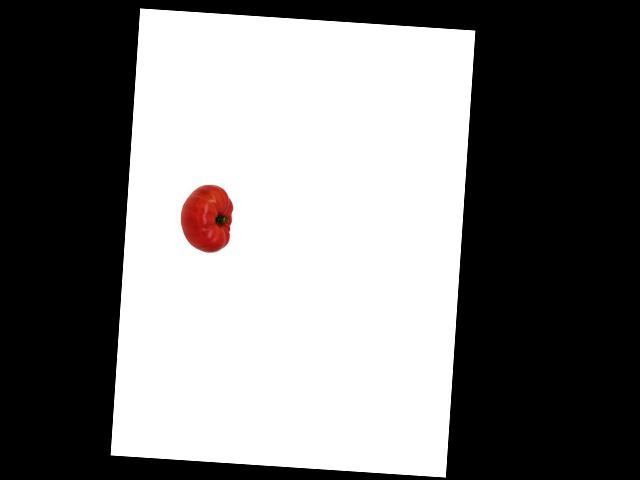tomato: (179, 182, 233, 253)
